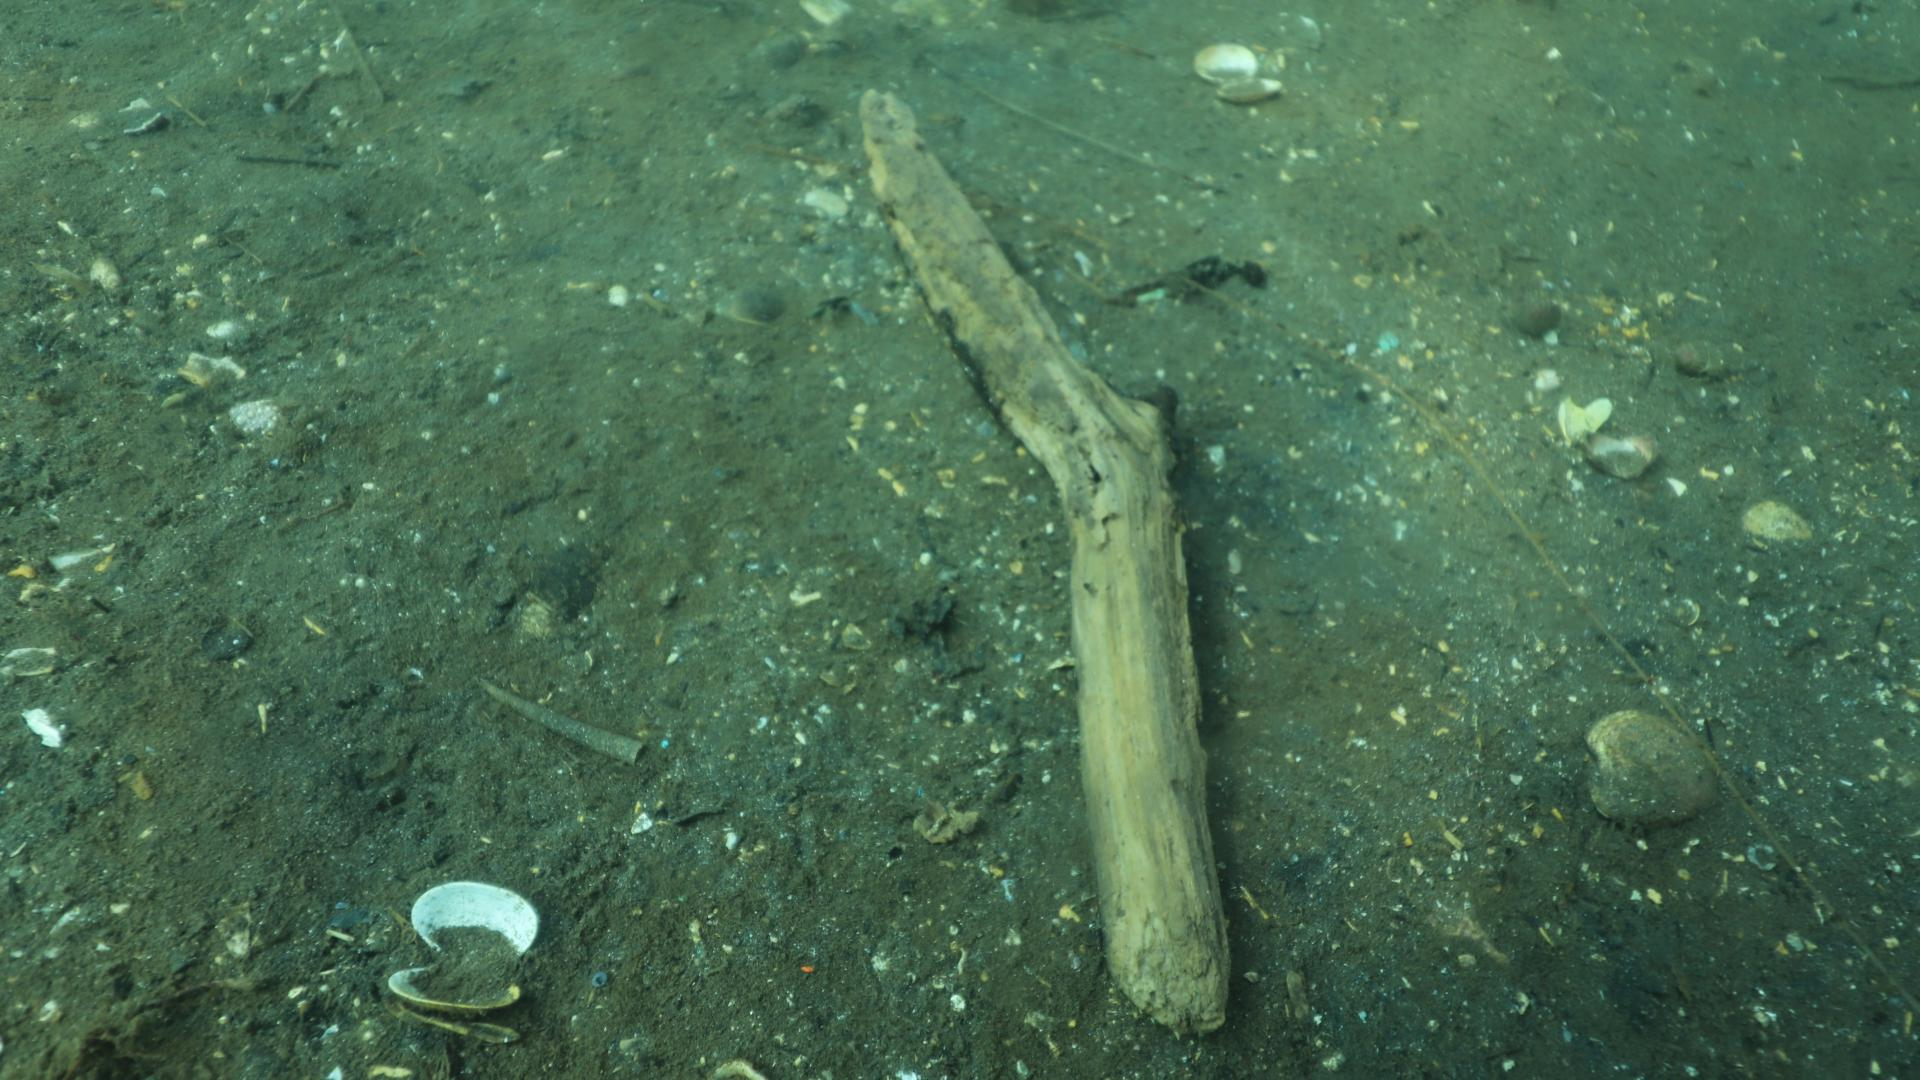wood: (856, 84, 1233, 1036)
